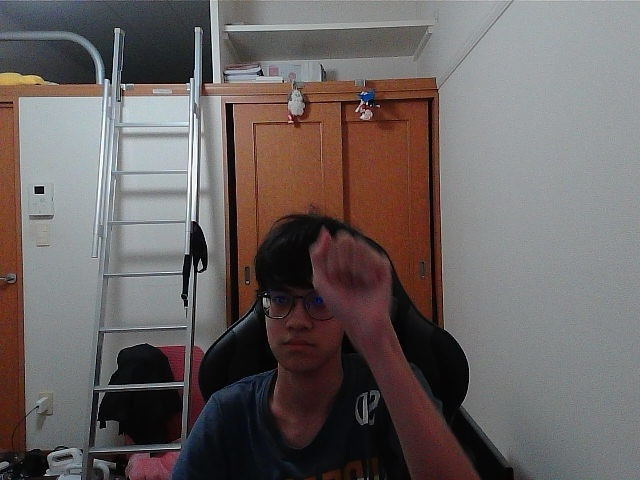closed_palm: (321, 241, 375, 313)
